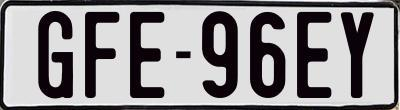6: (247, 12, 284, 98)
9: (199, 10, 238, 101)
E: (127, 11, 164, 100), (294, 9, 328, 100)
F: (84, 10, 119, 102)
G: (36, 8, 76, 101)
Y: (339, 9, 373, 95)
